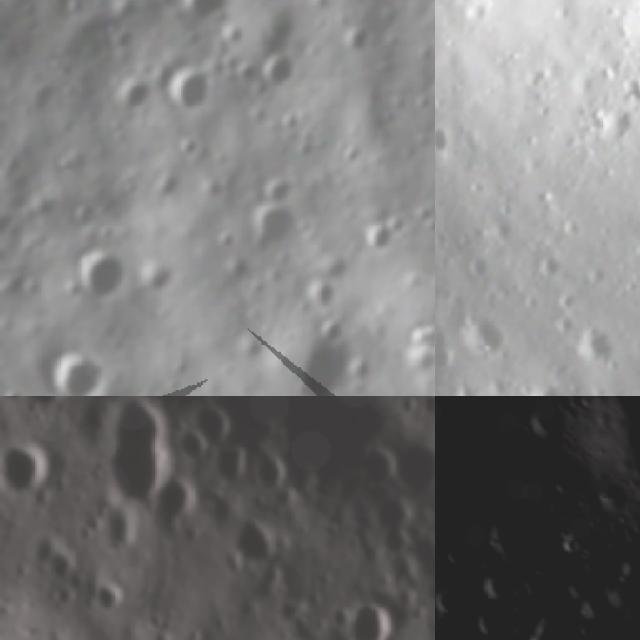crater: (86, 396, 181, 510), (215, 499, 293, 582), (71, 237, 140, 313), (452, 303, 520, 377), (143, 475, 208, 548), (329, 584, 410, 640), (42, 335, 114, 396), (565, 316, 630, 382), (380, 433, 435, 510), (0, 436, 61, 504), (288, 338, 356, 396), (162, 59, 220, 117), (249, 196, 302, 255), (82, 577, 134, 623), (371, 516, 417, 568), (264, 44, 307, 99), (524, 397, 572, 443), (301, 276, 354, 314), (439, 396, 488, 436), (484, 562, 528, 604), (358, 220, 405, 256), (435, 113, 465, 167), (15, 396, 74, 423), (173, 0, 235, 25), (462, 251, 500, 288), (435, 580, 471, 619), (485, 450, 524, 484), (522, 377, 576, 396), (474, 611, 508, 640), (442, 544, 476, 572), (238, 633, 327, 640), (0, 627, 14, 640)
